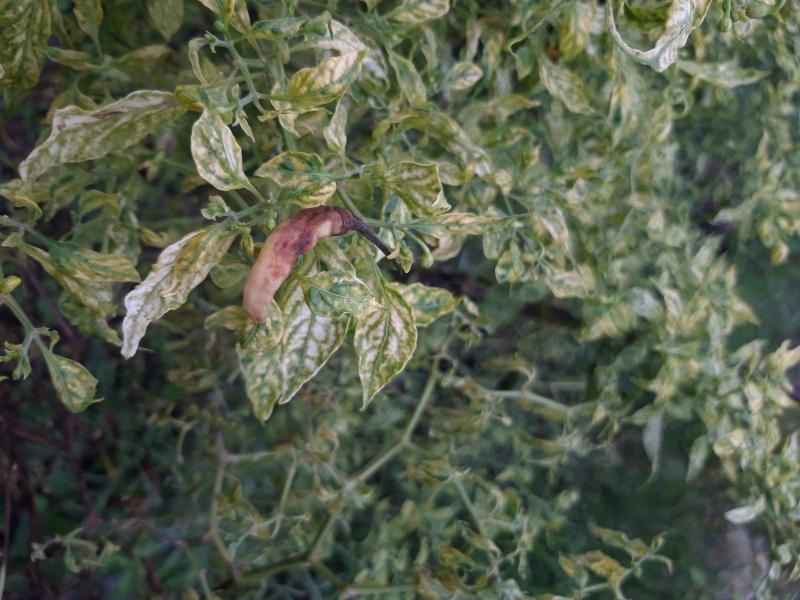antraknosa: (240, 203, 348, 333)
